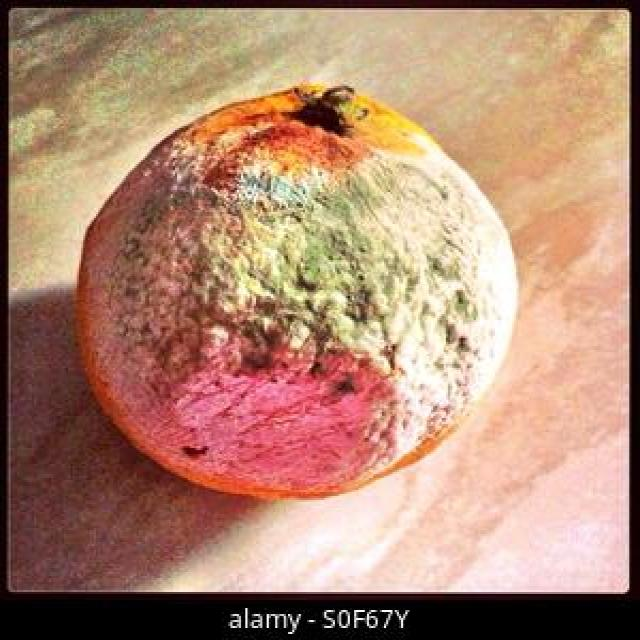Rotten: (73, 88, 520, 502)
